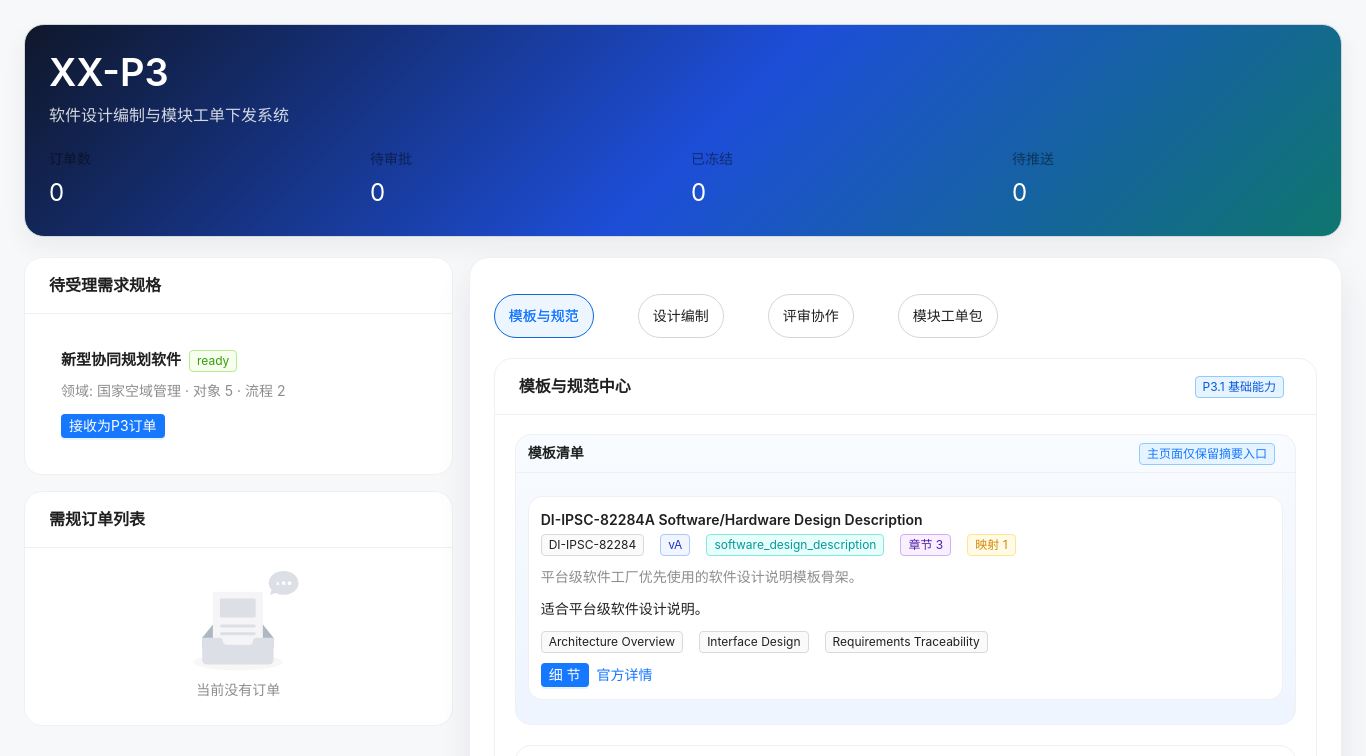
receives a requirement spec as a P3 order and supports rejection
This screenshot has width=1366, height=756.
Expected: the text "新型协同规划软件" is shown, [61,350,181,369]
Click the button "接收为P3订单".
click(113, 426)  # box [61,414,165,438]
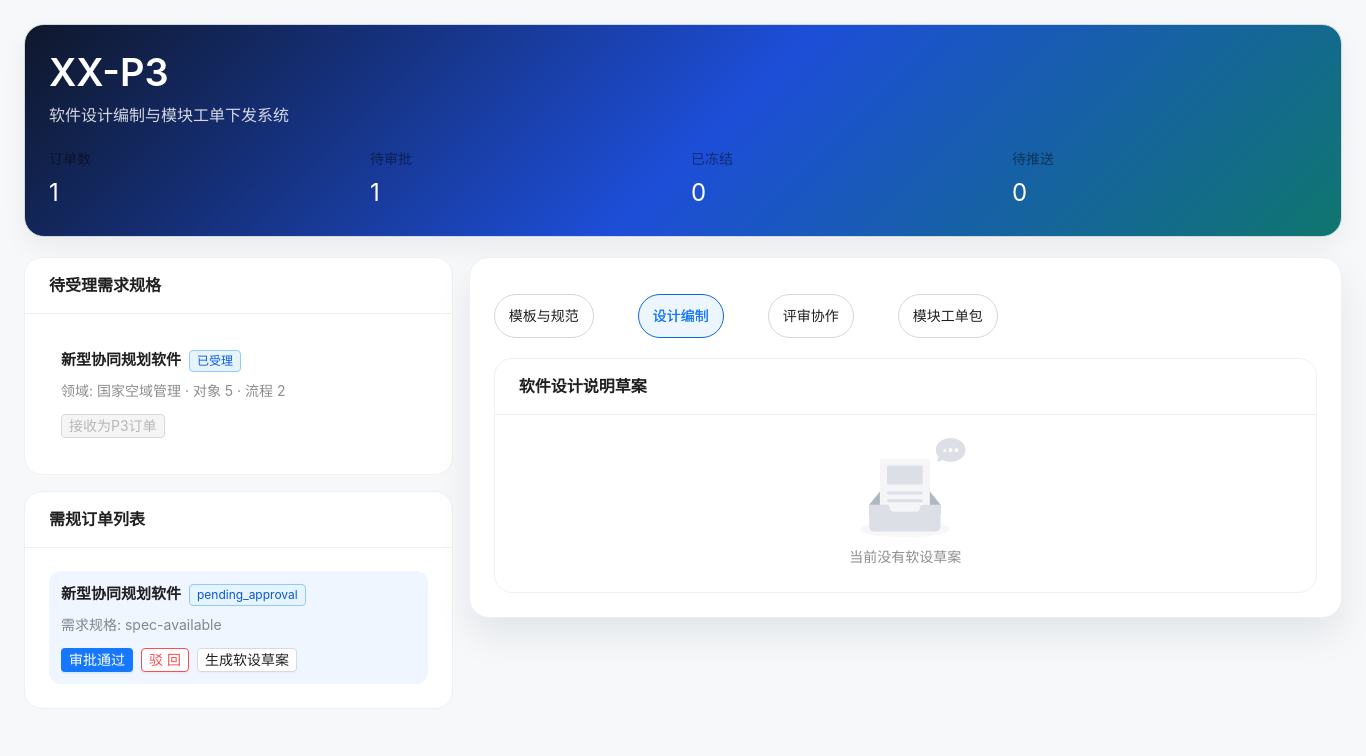
Expected: the text "新型协同规划软件" next to "已受理" is shown, [61,350,181,369]
Now the text "pending_approval" is shown, box [189,584,306,606]
Now the button "接收为P3订单" is disabled, box [61,414,165,438]
Click the button "驳 回".
click(165, 660)  # box [141,648,189,672]
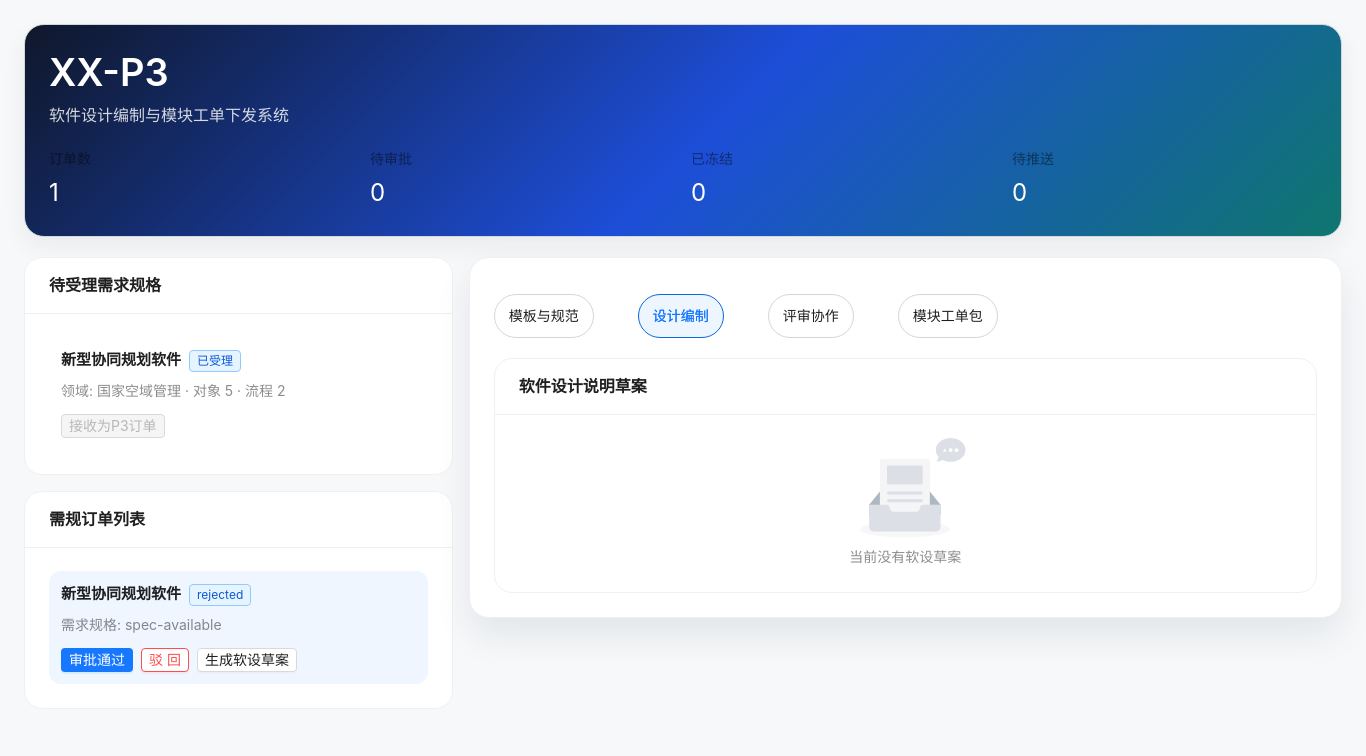
Now the text "rejected" is shown, box [189,584,251,606]
